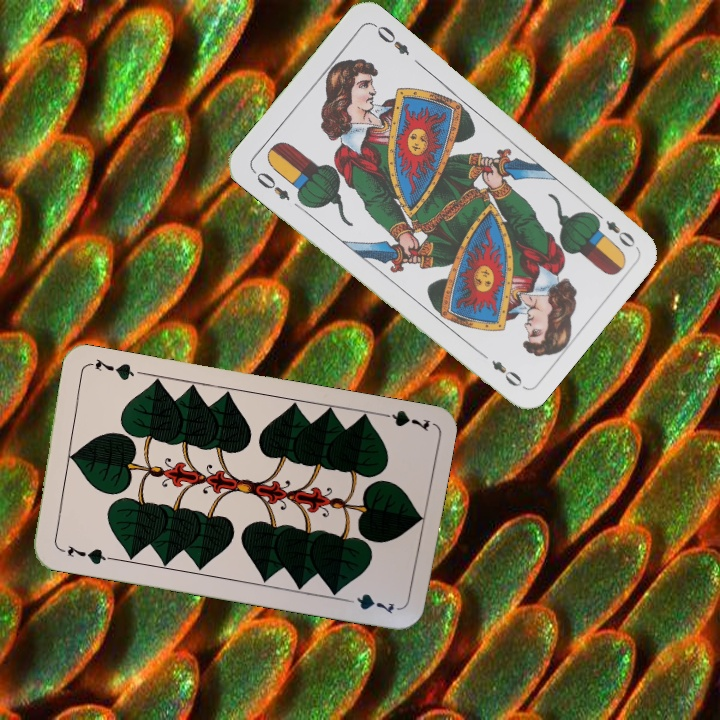EO: (588, 207, 638, 250), (248, 166, 293, 203)
G7: (373, 406, 432, 433), (55, 541, 114, 567)
